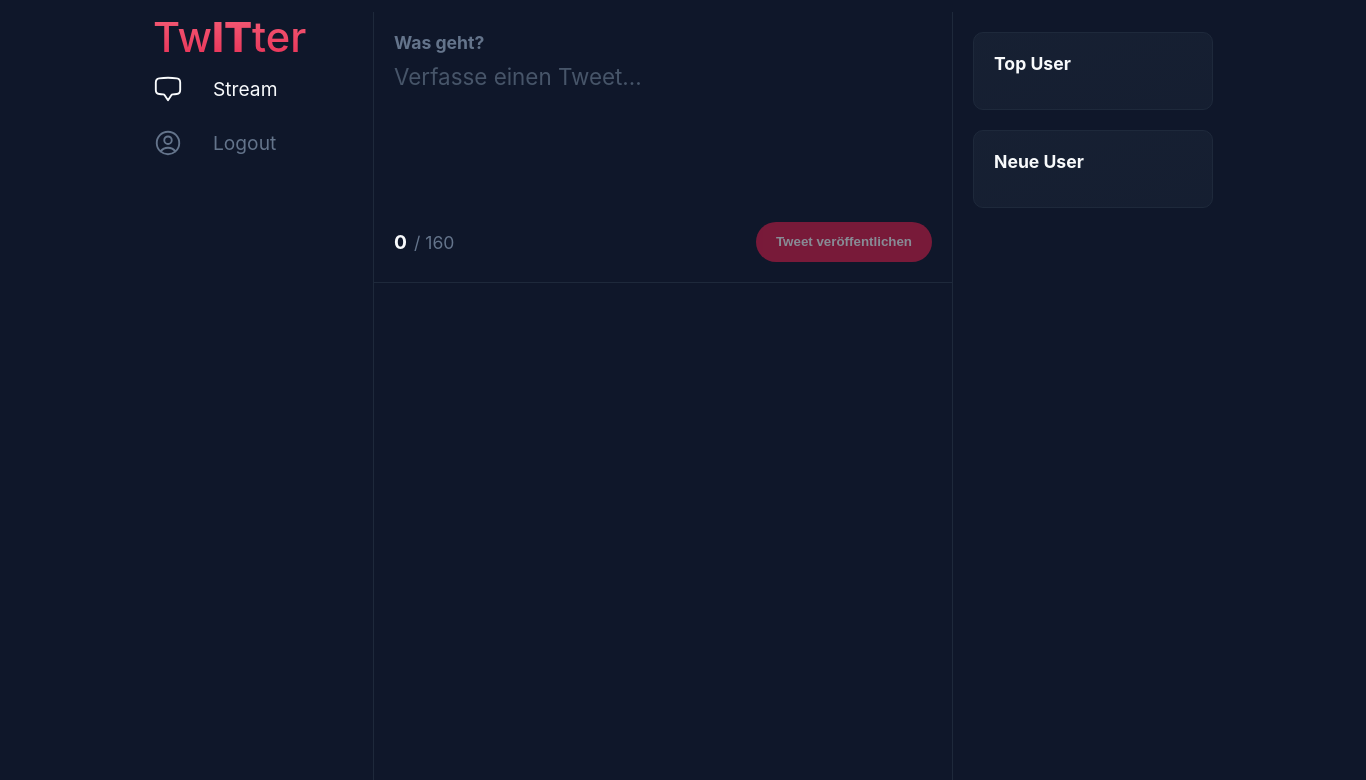
Test: G2 › Der Stream wird nach dem Posten eines Tweets neu geladen
This screenshot has width=1366, height=780.
Type "Hello World" into the text box with class "composer__textarea" at (663, 128), box [374, 58, 952, 198]
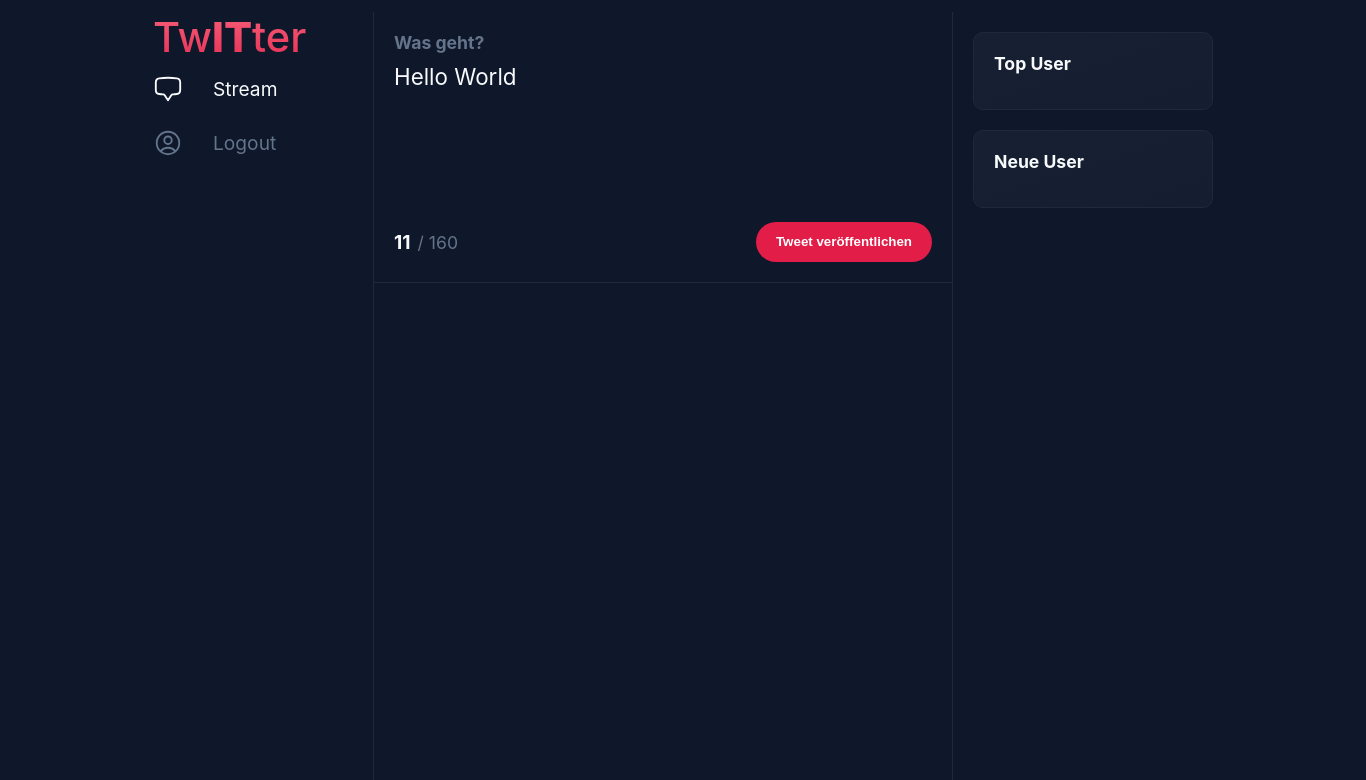
Click the button "Tweet veröffentlichen" at (844, 242), box [756, 222, 932, 262]
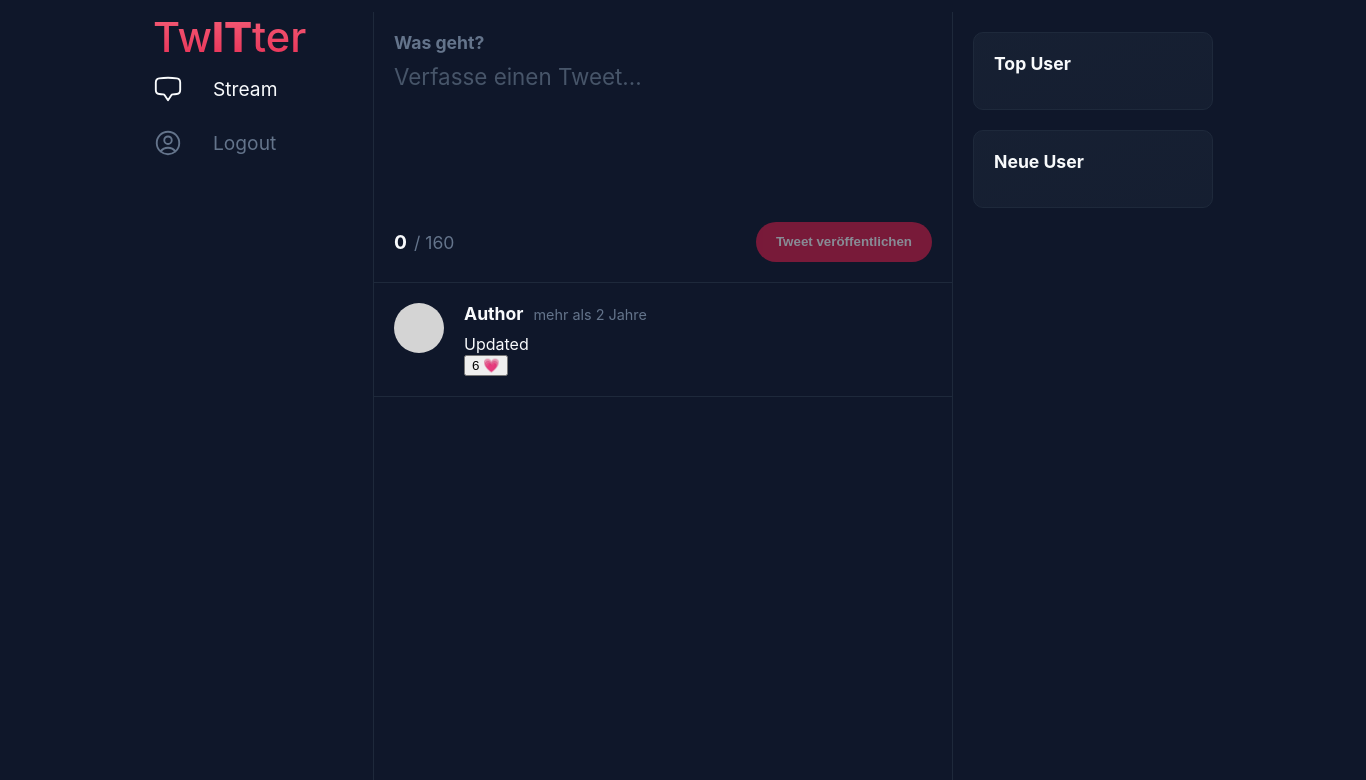
Now the number of elements with class "tweet" is 1, box [374, 283, 952, 397]
Now the text with class "tweet" reads "Updated", box [464, 334, 529, 354]
